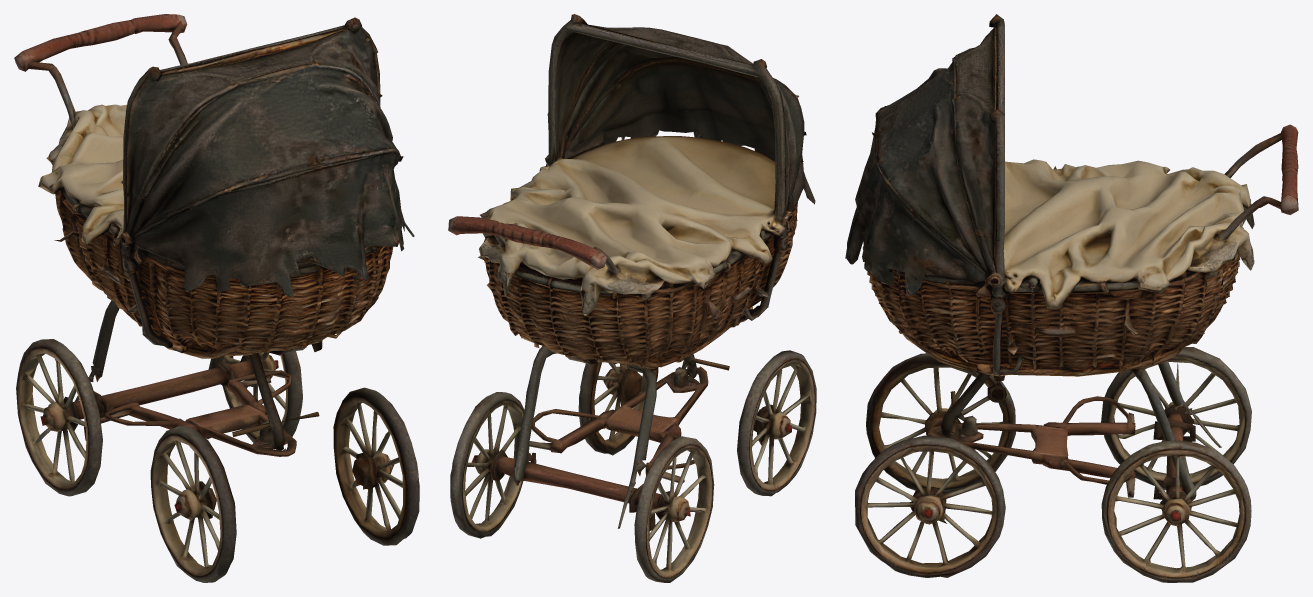
3 views of the same model, side by side, from view 1: azimuth 30°, elevation 25°; view 2: azimuth 150°, elevation 25°; view 3: azimuth 270°, elevation 25° (orthographic). The views are drawn at different scales.
Parts seen in each view (by area): view 1: tripo_node_c5d19451-41a9-4b23-b186-a4c00d1f60ef; view 2: tripo_node_c5d19451-41a9-4b23-b186-a4c00d1f60ef; view 3: tripo_node_c5d19451-41a9-4b23-b186-a4c00d1f60ef.
Part boxes in pixels (x1,y1,x2,y2): tripo_node_c5d19451-41a9-4b23-b186-a4c00d1f60ef: [14, 14, 419, 582]; tripo_node_c5d19451-41a9-4b23-b186-a4c00d1f60ef: [448, 14, 816, 582]; tripo_node_c5d19451-41a9-4b23-b186-a4c00d1f60ef: [845, 14, 1298, 582].
Bounding box in the file's own units: 0.5931 × 1 × 0.8644.
1 material, 1 textured.
